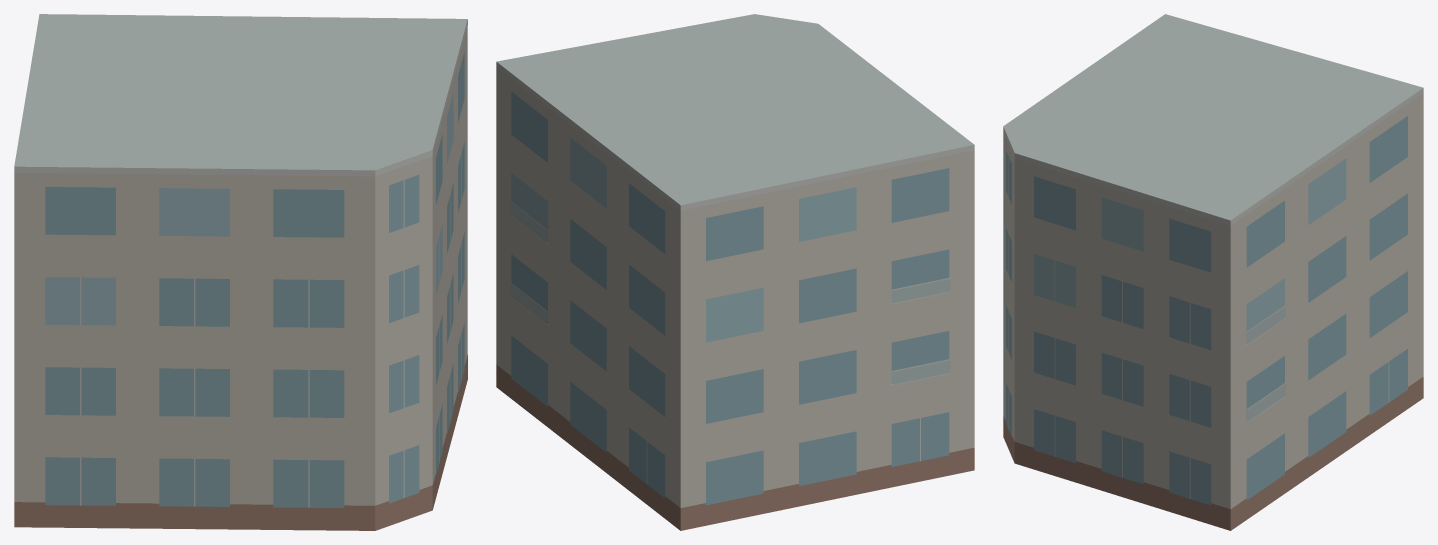
File: survey-upis-32840135.glb
The picture shows the model from 3 angles, left to right: view 1: azimuth 30°, elevation 25°; view 2: azimuth 150°, elevation 25°; view 3: azimuth 270°, elevation 25°; orthographic projection. The views are drawn at different scales.
Visible parts, largest first — view 1: survey-upis-32840135.tmp; view 2: survey-upis-32840135.tmp; view 3: survey-upis-32840135.tmp.
Boxes of the visible parts, <box> form: survey-upis-32840135.tmp: <box>14,14,467,530</box>; survey-upis-32840135.tmp: <box>496,14,974,530</box>; survey-upis-32840135.tmp: <box>1003,14,1423,530</box>.
Size of the model in its own units: 20.98 by 14.7 by 18.06.
